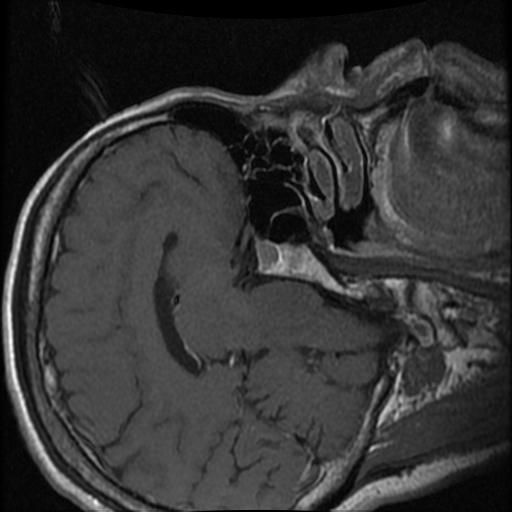pituitary tumour: (255, 241, 279, 270)
